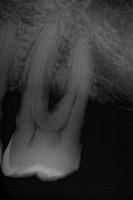Endo-Periodontal Lesion: (46, 84, 66, 114)
